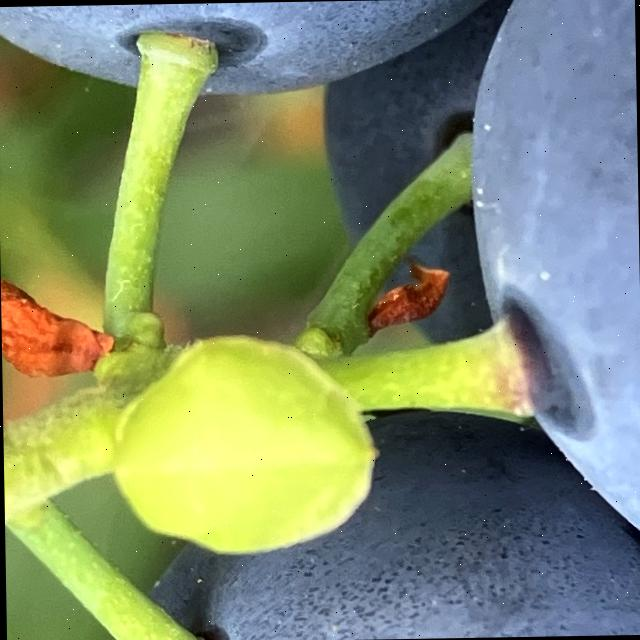Blueberries: (464, 0, 640, 637)
